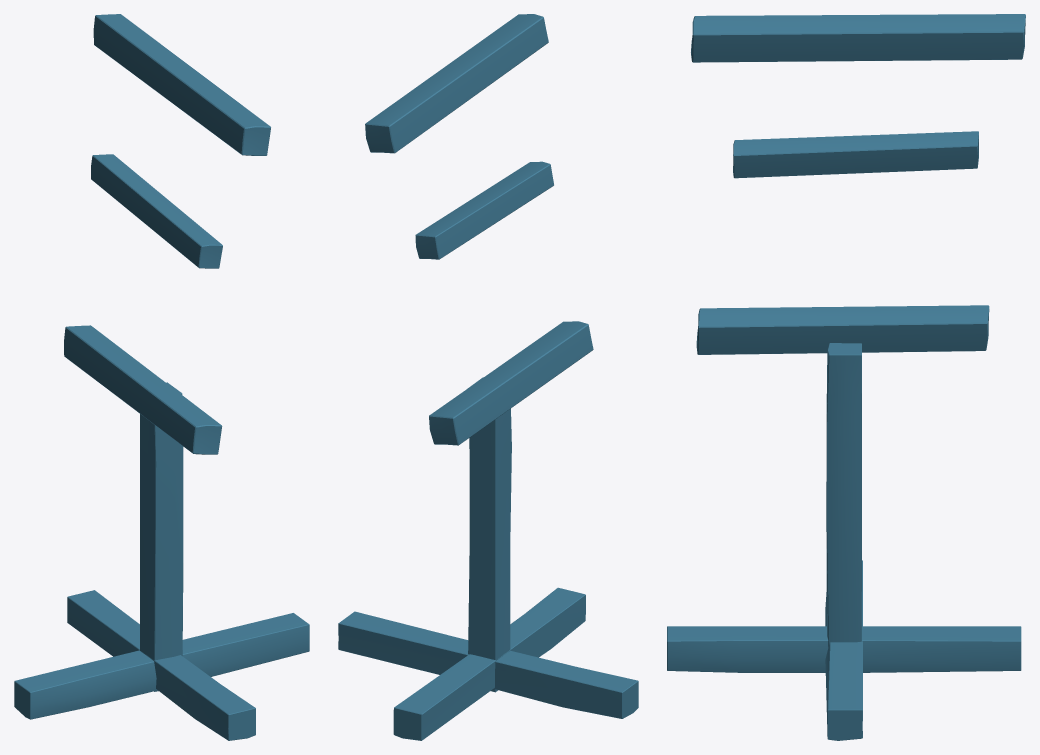
File: Gallows_01B_Lod0.fbx
The picture shows the model from 3 angles, left to right: view 1: azimuth 30°, elevation 25°; view 2: azimuth 150°, elevation 25°; view 3: azimuth 270°, elevation 25°; orthographic projection. The views are drawn at different scales.
Visible parts, largest first — view 1: Gallows_01B_Lod0; view 2: Gallows_01B_Lod0; view 3: Gallows_01B_Lod0.
Boxes of the visible parts, x1,y1,x2,y2 form: Gallows_01B_Lod0: [14, 14, 309, 740]; Gallows_01B_Lod0: [338, 14, 638, 740]; Gallows_01B_Lod0: [667, 14, 1025, 740].
Bounding box in the file's own units: 106 × 219 × 107.
